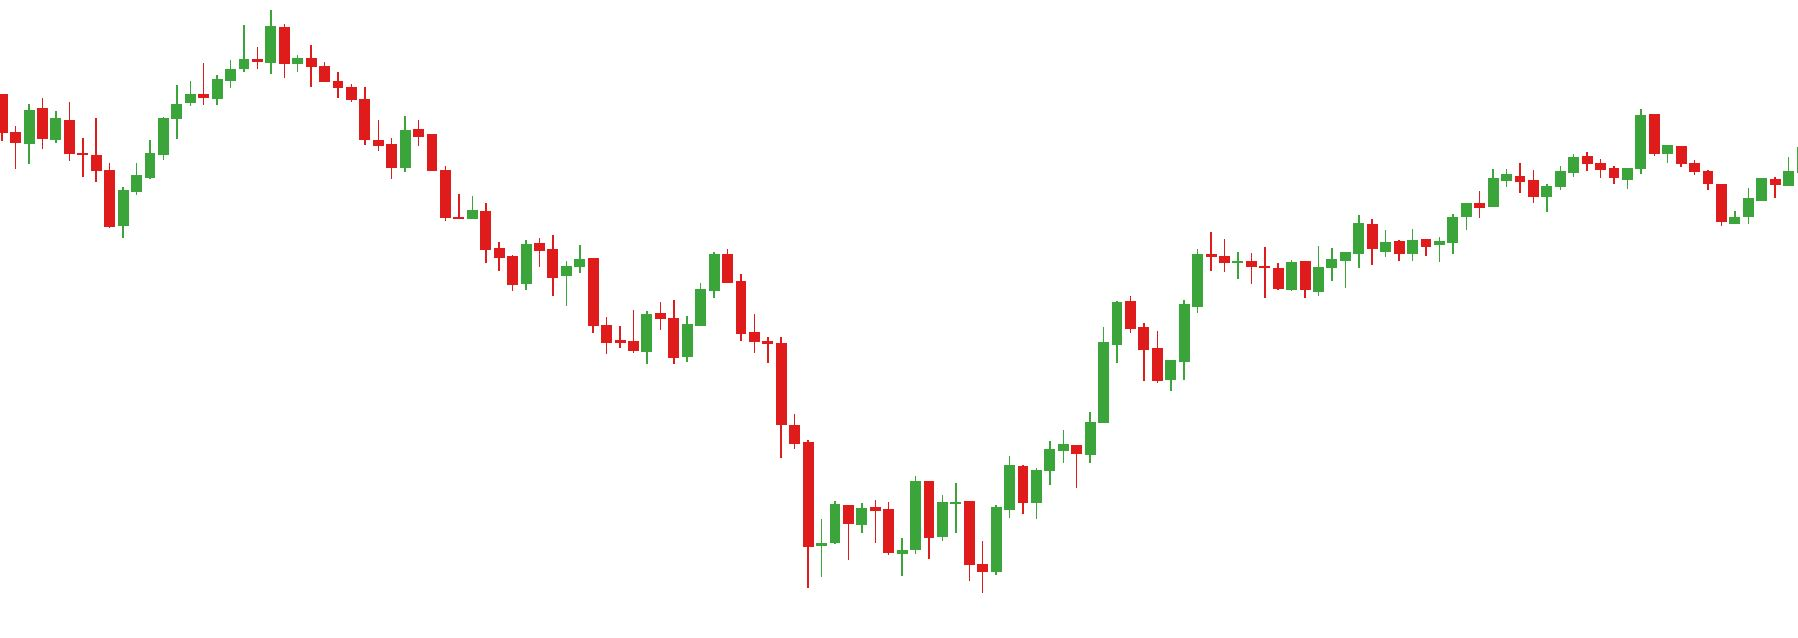buy: (898, 506, 1004, 597)
